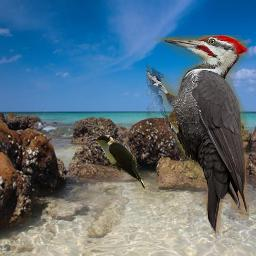Cuckoo: (89, 135, 145, 191)
Woodpecker: (146, 35, 249, 238)
